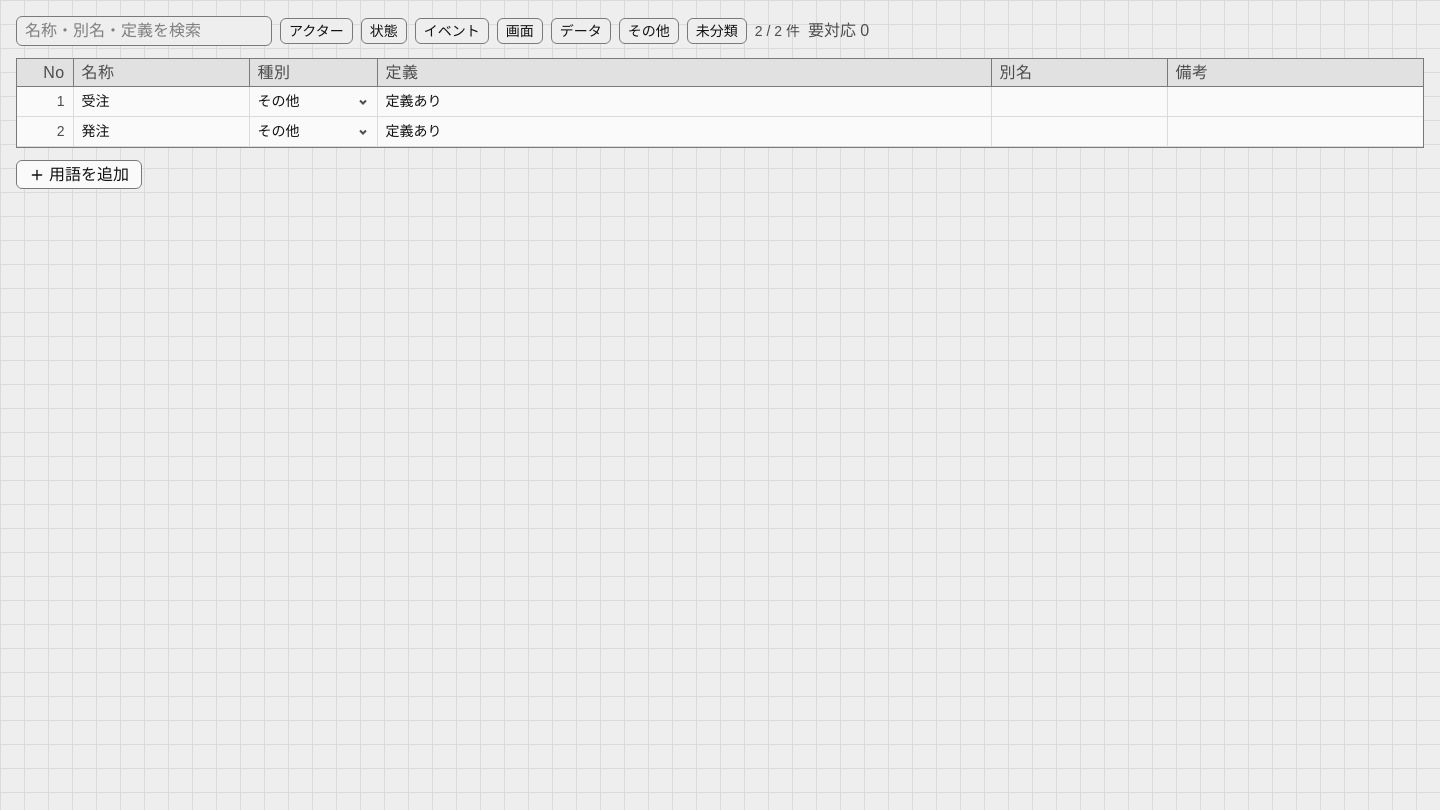
Test: GlossaryEditor: 行の操作言語 › 空の名称セルで Backspace すると行が消える
Clear the field named "名称（2行目）": (161, 132) [74,118,248,145]
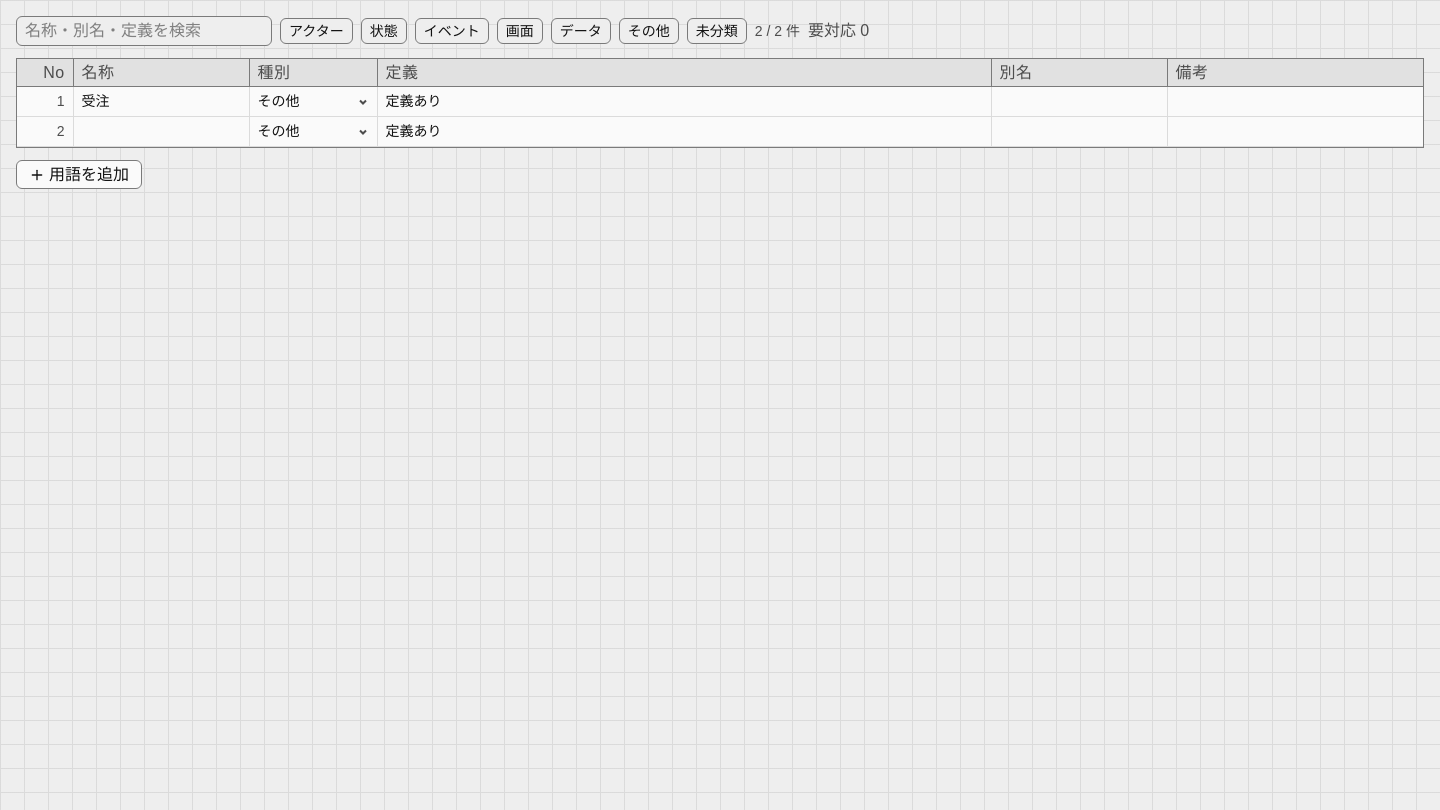
Press Backspace in the field named "名称（2行目）", box [74,118,248,145]
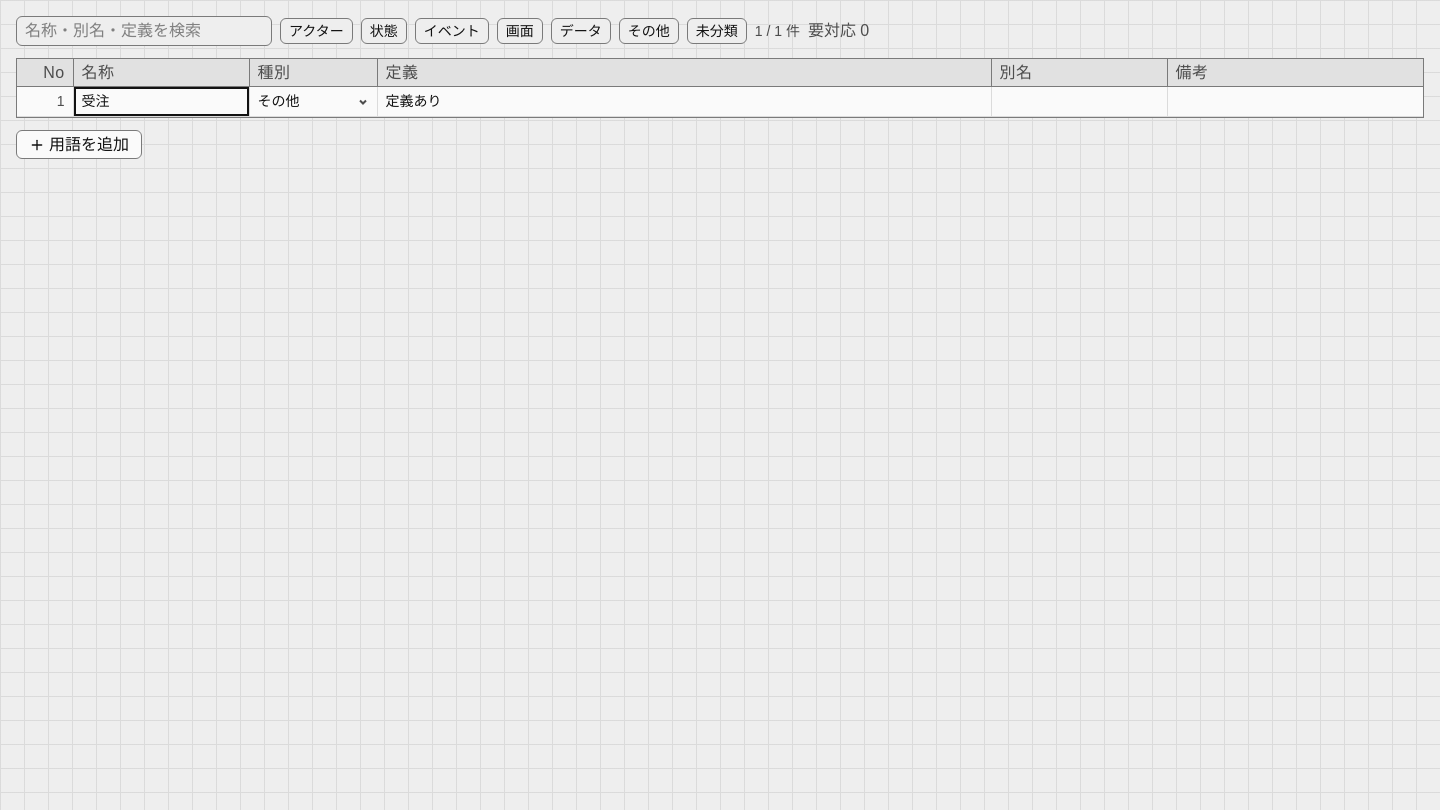
Expected: the number of fields named "名称（" is 1, [74,88,248,115]
